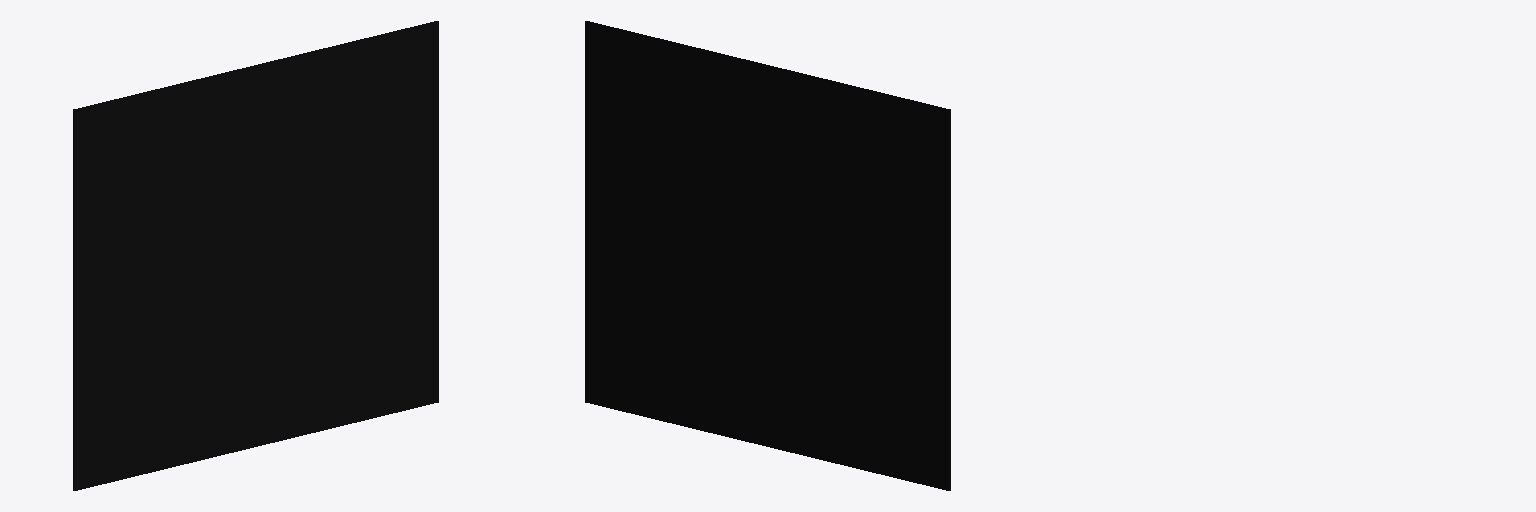
robot.urdf — ground_skeleton:
<?xml version="1.0"?>
<robot name="ground_skeleton">
  <material name="Black">
    <color rgba="0.1 0.1 0.1 1.0"/>
  </material>
    <link name="world" />
    <link name="ground_link">
        <inertial>
            <mass value="1.0" />
            <origin xyz="0 0 0" rpy="0 0 0" />
            <inertia ixx="1.0" ixy="0" ixz="0" iyy="1.0" iyz="0" izz="1.0" />
        </inertial>
        <visual>
            <origin xyz="0 -0 0" rpy="0 -0 0" />
            <geometry>
                <box size="250 0.25 250" />
            </geometry>
			<material name="Black"/> 
        </visual>
        <collision>
            <origin xyz="0 -0.0 0" rpy="0 -0 0" />
            <geometry>
                <box size="250 0.25 250" />
            </geometry>
        </collision>
    </link>
    <joint name="ground_joint" type="fixed">
        <origin xyz="0 0 0" rpy="0 0 0" />
        <parent link="world" />
        <child link="ground_link" />
    </joint>
</robot>

--- Render facts (derived) ---
3 views of the same robot in one strip: view 1: azimuth 30°, elevation 25°; view 2: azimuth 150°, elevation 25°; view 3: azimuth 270°, elevation 25° (orthographic).
Robot: ground_skeleton — 2 links, 1 joints (1 fixed); root link world; default pose: every joint at zero.
Links seen in each view (by area): view 1: ground_link; view 2: ground_link; view 3: none.
Boxes of the visible links, left/top/right/bottom form: ground_link: left=73, top=21, right=438, bottom=490; ground_link: left=585, top=21, right=950, bottom=490.
Size in the robot's own frame: 250 by 0.25 by 250 metres.
Geometry: primitives only (box / cylinder / sphere), no mesh files.